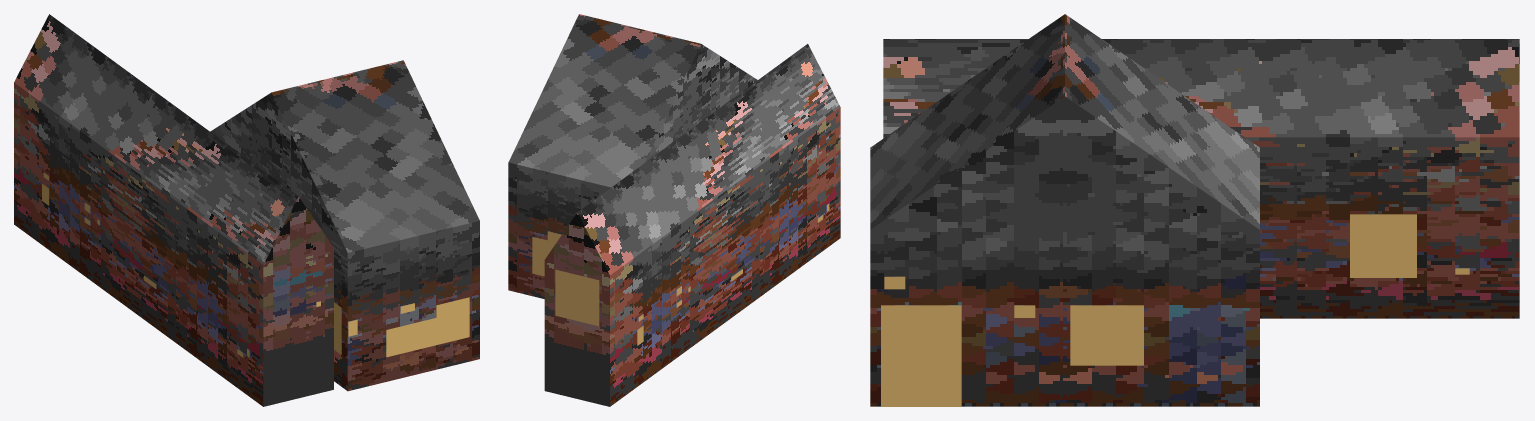
Rendered from dum_2e_domy.glb.
3 views of the same model, side by side, from view 1: azimuth 30°, elevation 25°; view 2: azimuth 150°, elevation 25°; view 3: azimuth 270°, elevation 25° (orthographic). The views are drawn at different scales.
Visible parts, largest first — view 1: object 1, noc; view 2: object 1, noc; view 3: object 1, noc.
Boxes of the visible parts, box(x1,y1,x2,y2) form: object 1: box(14, 14, 479, 406); noc: box(42, 172, 469, 357); object 1: box(508, 14, 840, 406); noc: box(532, 203, 829, 345); object 1: box(870, 14, 1519, 406); noc: box(881, 214, 1469, 406).
Bounding box in the file's own units: 5.59 × 6.09 × 11.6.
1 material, 1 textured.
